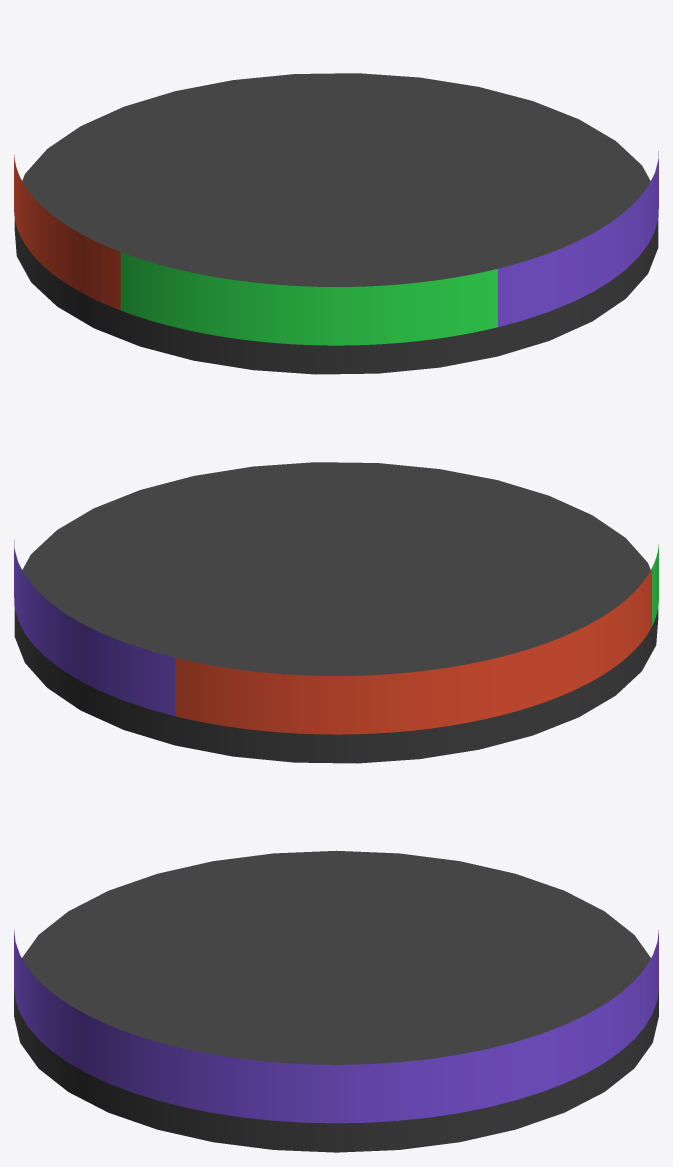
The model's file is pie_chart.glb.
3 renders of one model, top to bottom at view 1: azimuth 30°, elevation 25°; view 2: azimuth 150°, elevation 25°; view 3: azimuth 270°, elevation 25°, orthographic.
Bounding box in the file's own units: 2 × 0.3 × 2.
